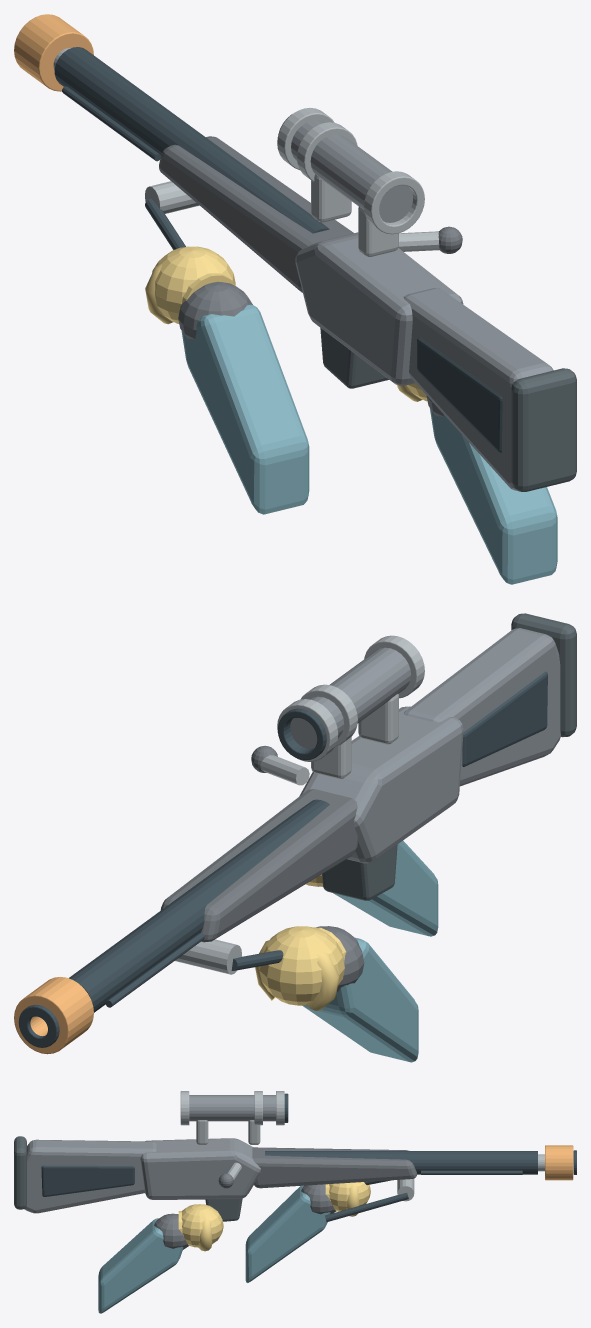
File: watcher.glb
3 renders of one model, top to bottom at view 1: azimuth 30°, elevation 25°; view 2: azimuth 150°, elevation 25°; view 3: azimuth 270°, elevation 25°, orthographic. The views are drawn at different scales.
Parts seen in each view (by area): view 1: BATCH_MACHINED_GRAPHITE_02, BATCH_TEAM_UNIFORM_SLEEVE_10, BATCH_SHADOW_GROOVES_05, BATCH_CERAMIC_POLYMER_01, BATCH_RUBBER_04, BATCH_BRUSHED_ALLOY_03, BATCH_YELLOW_MINIFIG_HAND_09, Mandatory orange 6mm tip; view 2: BATCH_MACHINED_GRAPHITE_02, BATCH_SHADOW_GROOVES_05, BATCH_CERAMIC_POLYMER_01, BATCH_TEAM_UNIFORM_SLEEVE_10, BATCH_BRUSHED_ALLOY_03, BATCH_YELLOW_MINIFIG_HAND_09, BATCH_RUBBER_04, Mandatory orange 6mm tip; view 3: BATCH_MACHINED_GRAPHITE_02, BATCH_TEAM_UNIFORM_SLEEVE_10, BATCH_SHADOW_GROOVES_05, BATCH_CERAMIC_POLYMER_01, BATCH_YELLOW_MINIFIG_HAND_09, BATCH_BRUSHED_ALLOY_03, BATCH_RUBBER_04, Mandatory orange 6mm tip.
Boxes of the visible parts, box(x1,y1,x2,y2) form: BATCH_MACHINED_GRAPHITE_02: box(291, 120, 553, 490); BATCH_TEAM_UNIFORM_SLEEVE_10: box(181, 304, 557, 584); BATCH_SHADOW_GROOVES_05: box(54, 47, 502, 452); BATCH_CERAMIC_POLYMER_01: box(159, 136, 462, 416); BATCH_RUBBER_04: box(320, 328, 576, 491); BATCH_BRUSHED_ALLOY_03: box(53, 48, 439, 256); BATCH_YELLOW_MINIFIG_HAND_09: box(145, 246, 427, 401); Mandatory orange 6mm tip: box(14, 14, 93, 91); BATCH_MACHINED_GRAPHITE_02: box(290, 628, 560, 863); BATCH_SHADOW_GROOVES_05: box(18, 671, 547, 1047); BATCH_CERAMIC_POLYMER_01: box(160, 745, 364, 991); BATCH_TEAM_UNIFORM_SLEEVE_10: box(302, 840, 438, 1062); BATCH_BRUSHED_ALLOY_03: box(175, 635, 424, 974); BATCH_YELLOW_MINIFIG_HAND_09: box(255, 874, 346, 1010); BATCH_RUBBER_04: box(322, 613, 576, 900); Mandatory orange 6mm tip: box(14, 977, 93, 1054); BATCH_MACHINED_GRAPHITE_02: box(24, 1095, 275, 1213); BATCH_TEAM_UNIFORM_SLEEVE_10: box(98, 1185, 330, 1313); BATCH_SHADOW_GROOVES_05: box(41, 1093, 576, 1221); BATCH_CERAMIC_POLYMER_01: box(154, 1147, 416, 1249); BATCH_YELLOW_MINIFIG_HAND_09: box(178, 1182, 370, 1251); BATCH_BRUSHED_ALLOY_03: box(180, 1091, 544, 1201); BATCH_RUBBER_04: box(14, 1136, 242, 1221); Mandatory orange 6mm tip: box(545, 1145, 573, 1180).
Bounding box in the file's own units: 0.5846 × 1.02 × 2.6.
